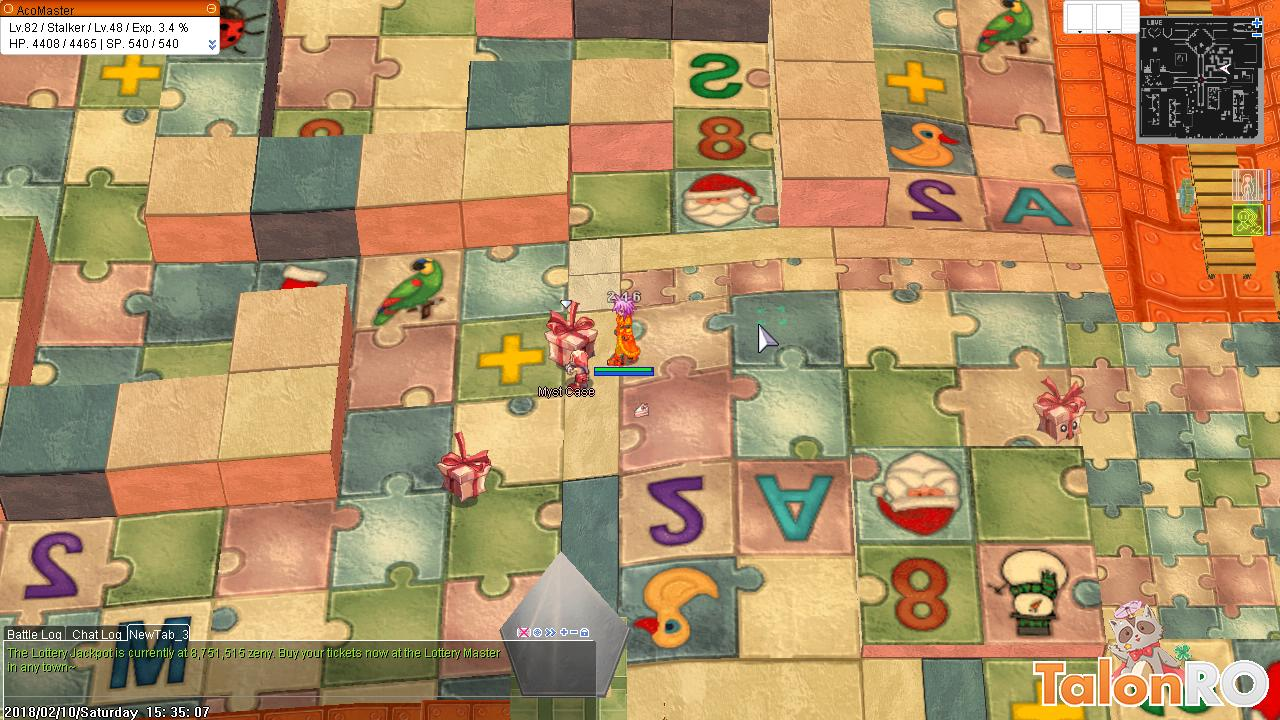myst_case: (434, 427, 496, 512), (1028, 373, 1094, 445), (543, 298, 600, 366)
